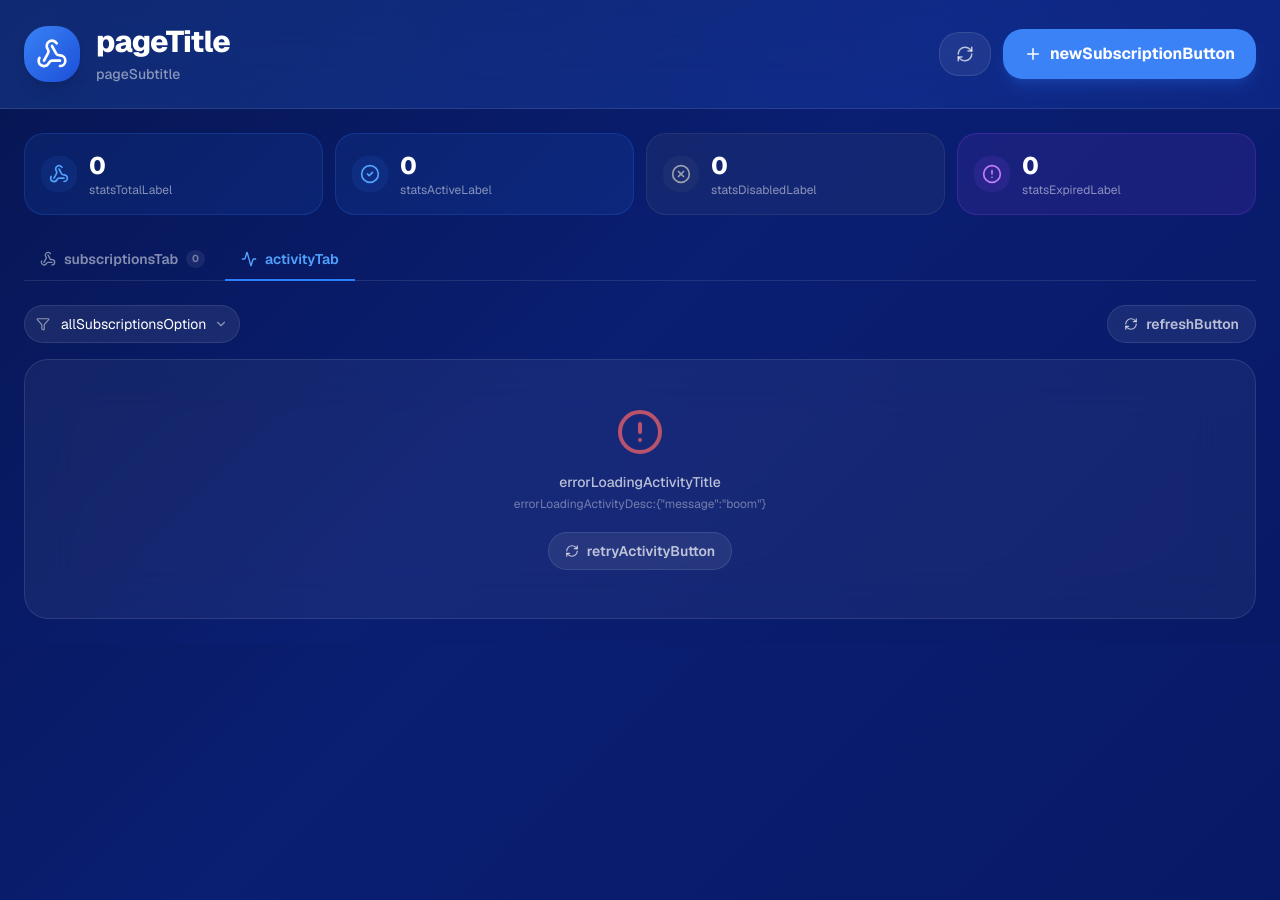
Activity : liste vide contre chargement en échec › l'état d'erreur offre de réessayer, et un second appel réussi le remplace
expect the text "errorLoadingActivityTitle" is shown: met, box 559,473 -> 721,491
Click the button "retryActivityButton": coordinates (640, 551) 548,532 -> 732,570
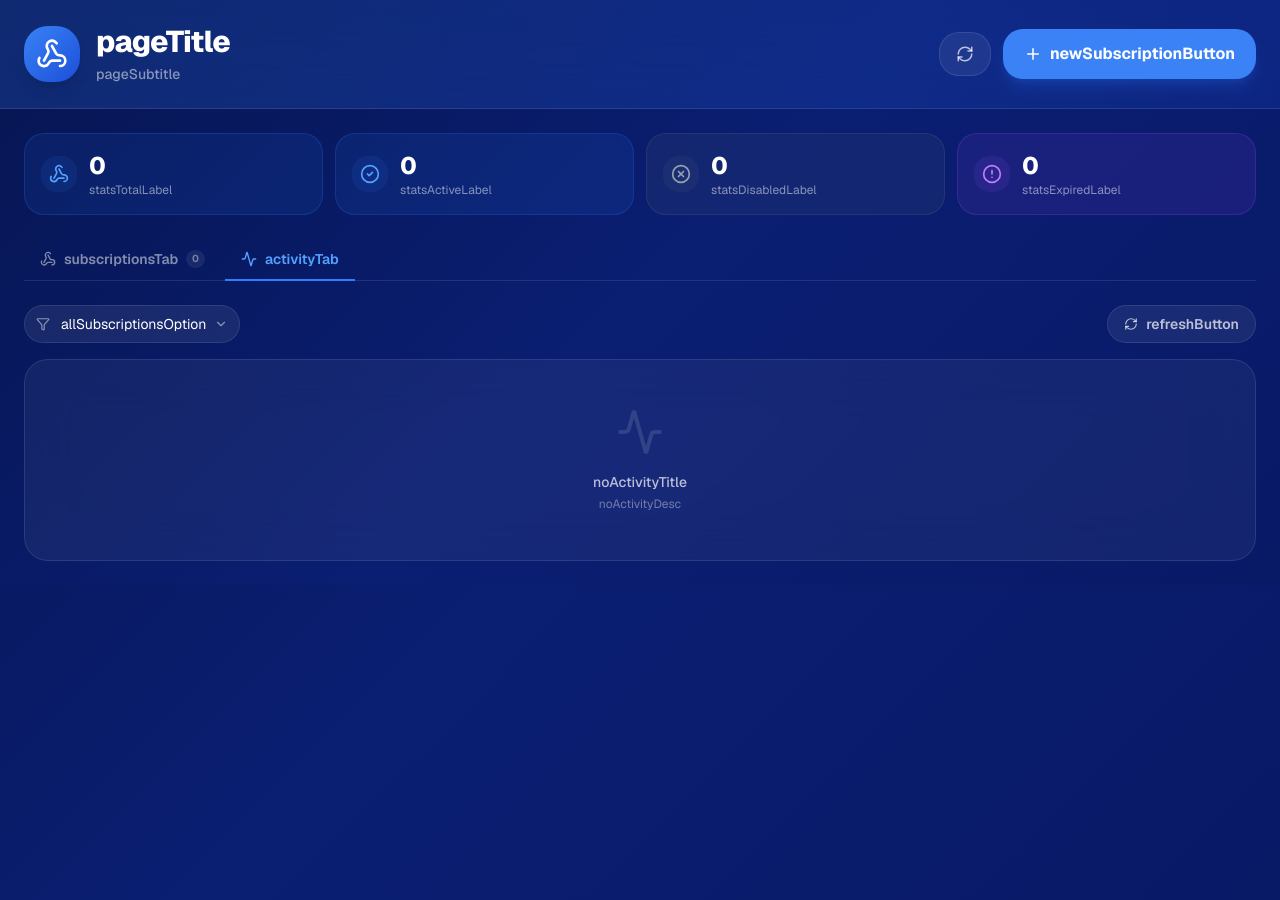
expect the text "noActivityTitle" is shown: met, box 593,473 -> 687,491
expect the text "errorLoadingActivityTitle" is gone: met
